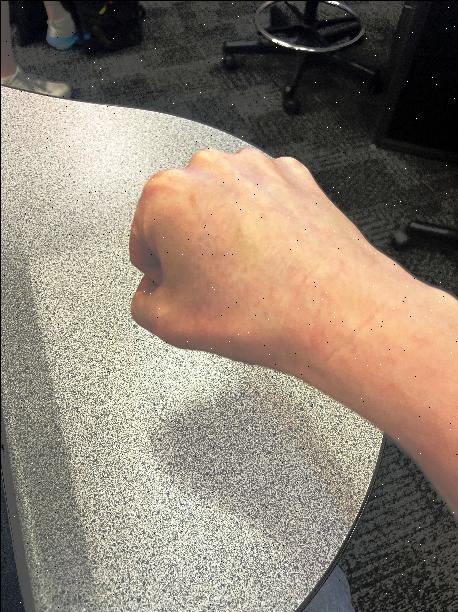Rock: (103, 99, 388, 416)
